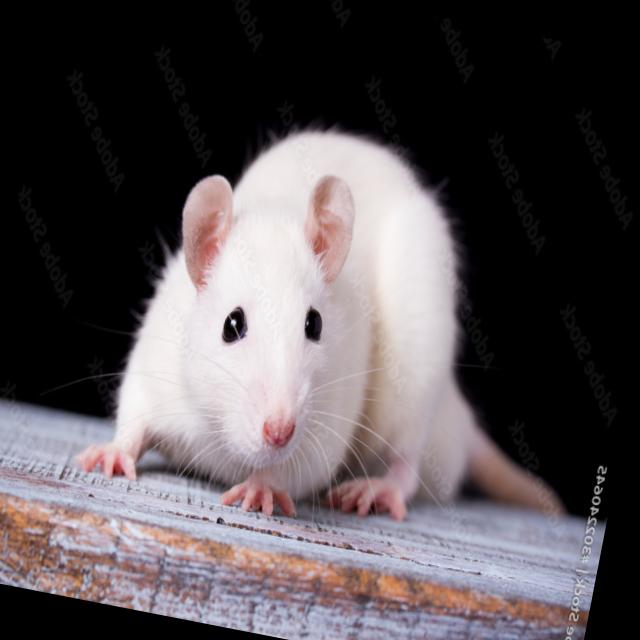rodents: (70, 83, 528, 572)
